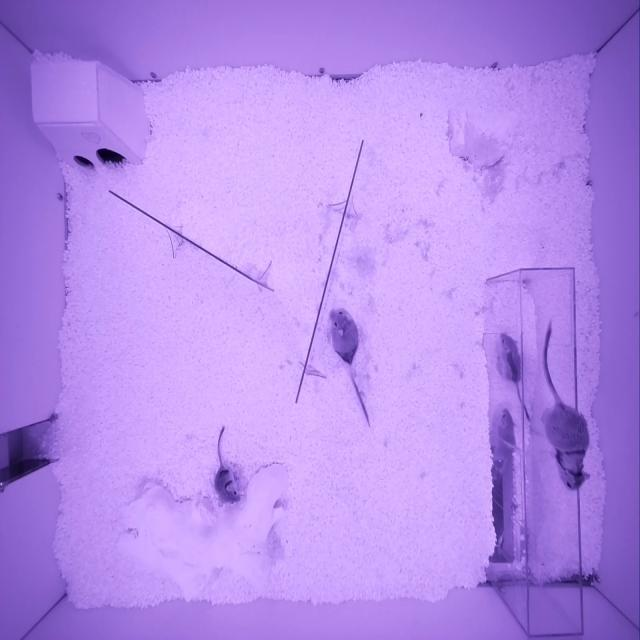adult_back: (328, 307, 359, 366)
adult_front: (541, 402, 590, 493)
pup_fluffy: (494, 408, 516, 462)
pup_spotted: (214, 465, 241, 504)
pup_v_stripe: (498, 333, 522, 383)
